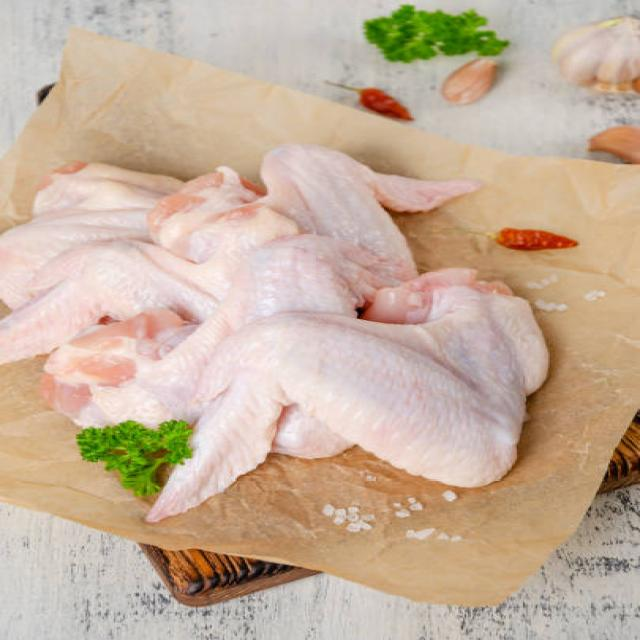Chicken: (148, 280, 557, 521)
